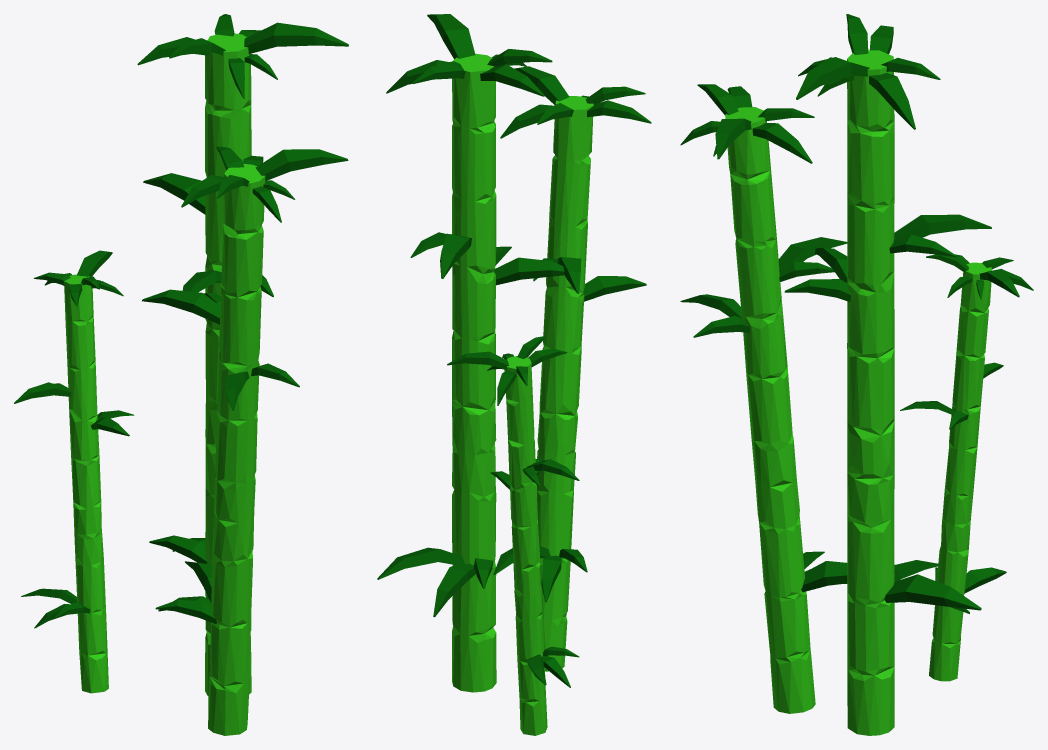
File: Bamboo.fbx
3 renders of one model, left to right at view 1: azimuth 30°, elevation 25°; view 2: azimuth 150°, elevation 25°; view 3: azimuth 270°, elevation 25°, orthographic. The views are drawn at different scales.
Visible parts, largest first — view 1: bamboo leaves, bamboo leaves.001; view 2: bamboo leaves, bamboo leaves.001; view 3: bamboo leaves, bamboo leaves.001.
Boxes of the visible parts, left/top/right/bottom form: bamboo leaves: left=64, top=33, right=265, bottom=735; bamboo leaves.001: left=14, top=14, right=348, bottom=628; bamboo leaves: left=452, top=53, right=593, bottom=735; bamboo leaves.001: left=377, top=14, right=651, bottom=687; bamboo leaves: left=725, top=50, right=991, bottom=735; bamboo leaves.001: left=680, top=14, right=1033, bottom=613.
Bounding box in the file's own units: 107 × 229 × 88.78.
